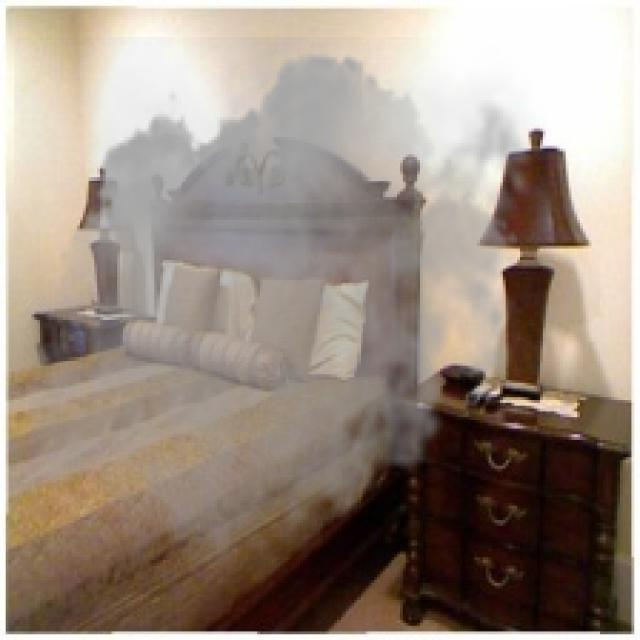smoke: (14, 37, 549, 592)
